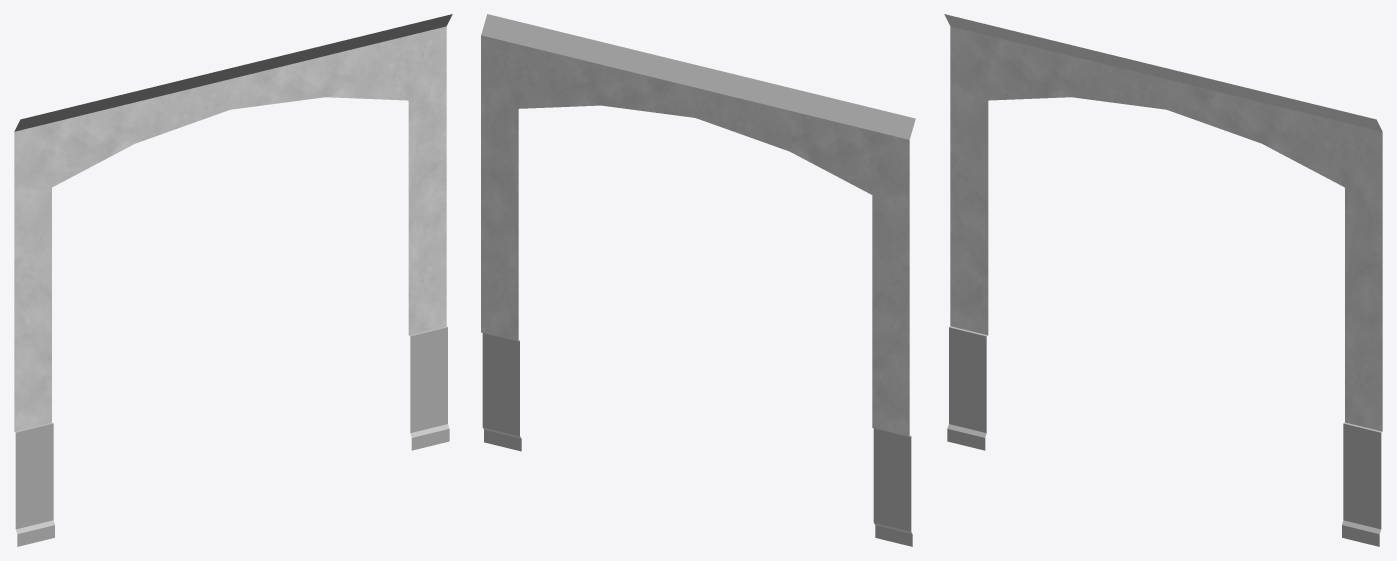
File: WallInt2ArchB.fbx
3 views of the same model, side by side, from view 1: azimuth 30°, elevation 25°; view 2: azimuth 150°, elevation 25°; view 3: azimuth 330°, elevation 25° (orthographic).
Parts seen in each view (by area): view 1: WallInt2ArchB; view 2: WallInt2ArchB; view 3: WallInt2ArchB.
Part boxes in pixels (x1,y1,x2,y2): WallInt2ArchB: (14,14,452,546); WallInt2ArchB: (481,14,915,546); WallInt2ArchB: (944,14,1382,546).
Size of the model in its own units: 400 by 380 by 10.
